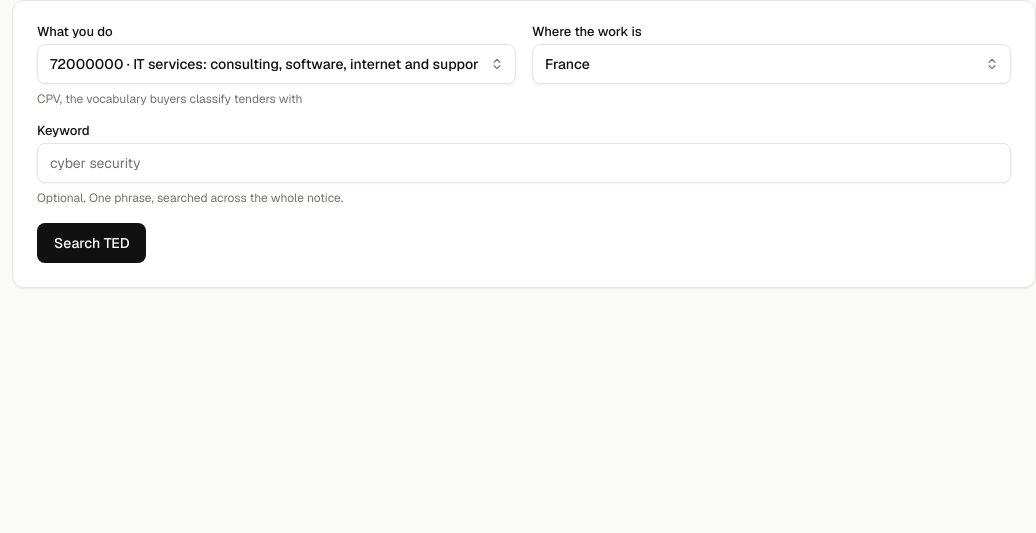
Test case: a result card › says a passed deadline is closed rather than due
Click the button "Search TED": click(92, 243) [37,223,146,263]
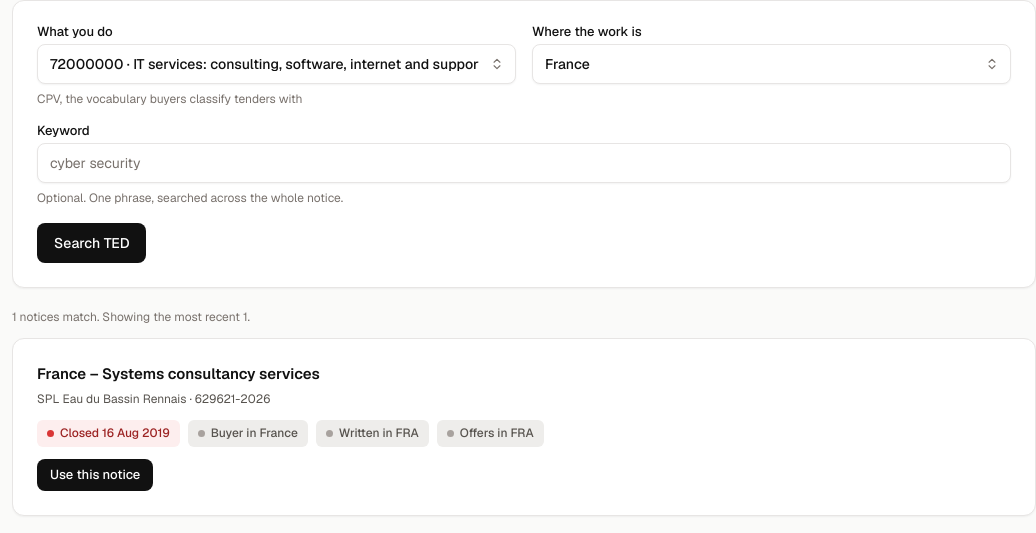
Result: the text "Closed 16 Aug 2019" is shown at [37,420,180,447]
